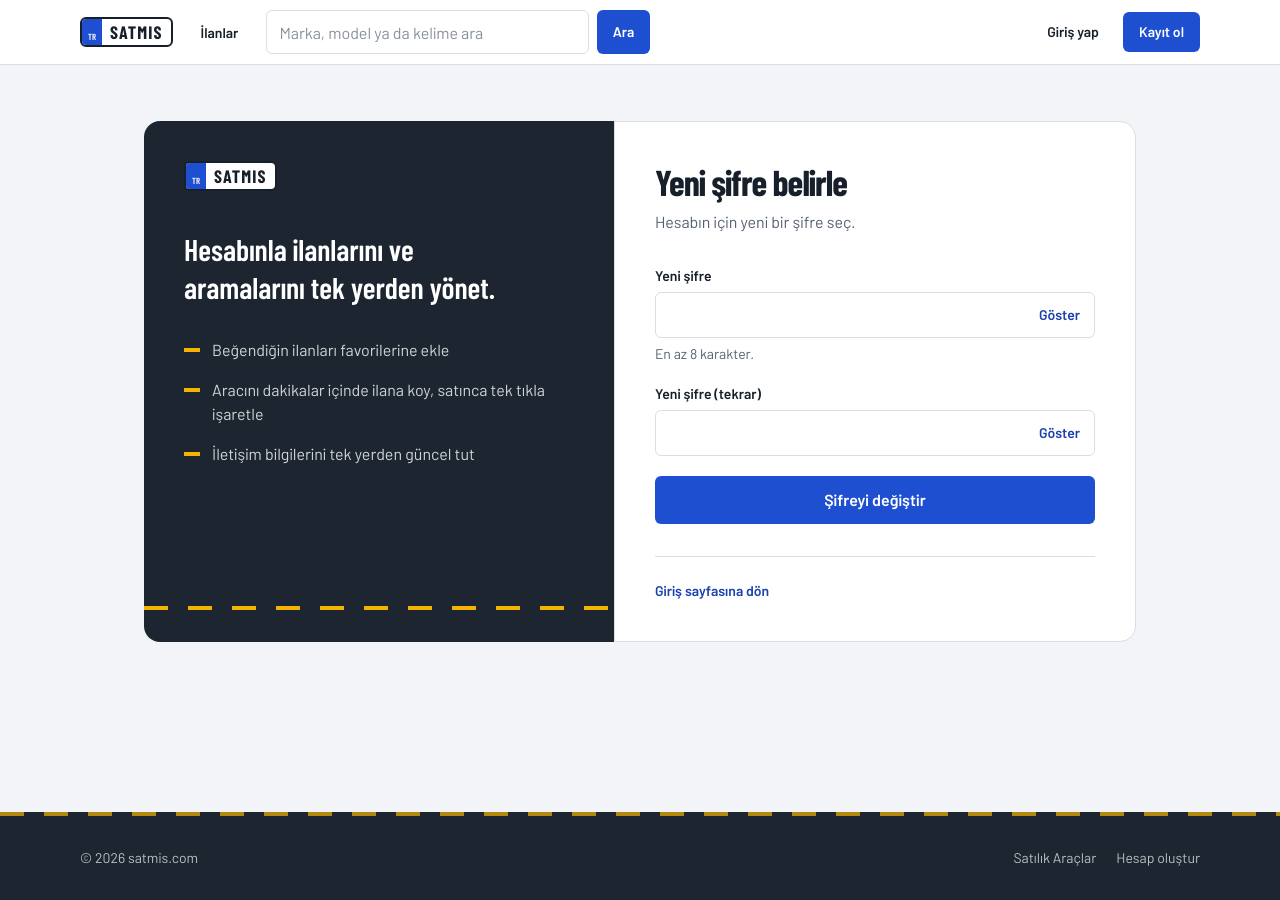
Test: ResetPasswordPage › shortPassword_showsLengthError
The width and height of the screenshot is (1280, 900).
Type "kisa" into the password field labelled "Yeni şifre" at (842, 315), box [656,293,1029,337]
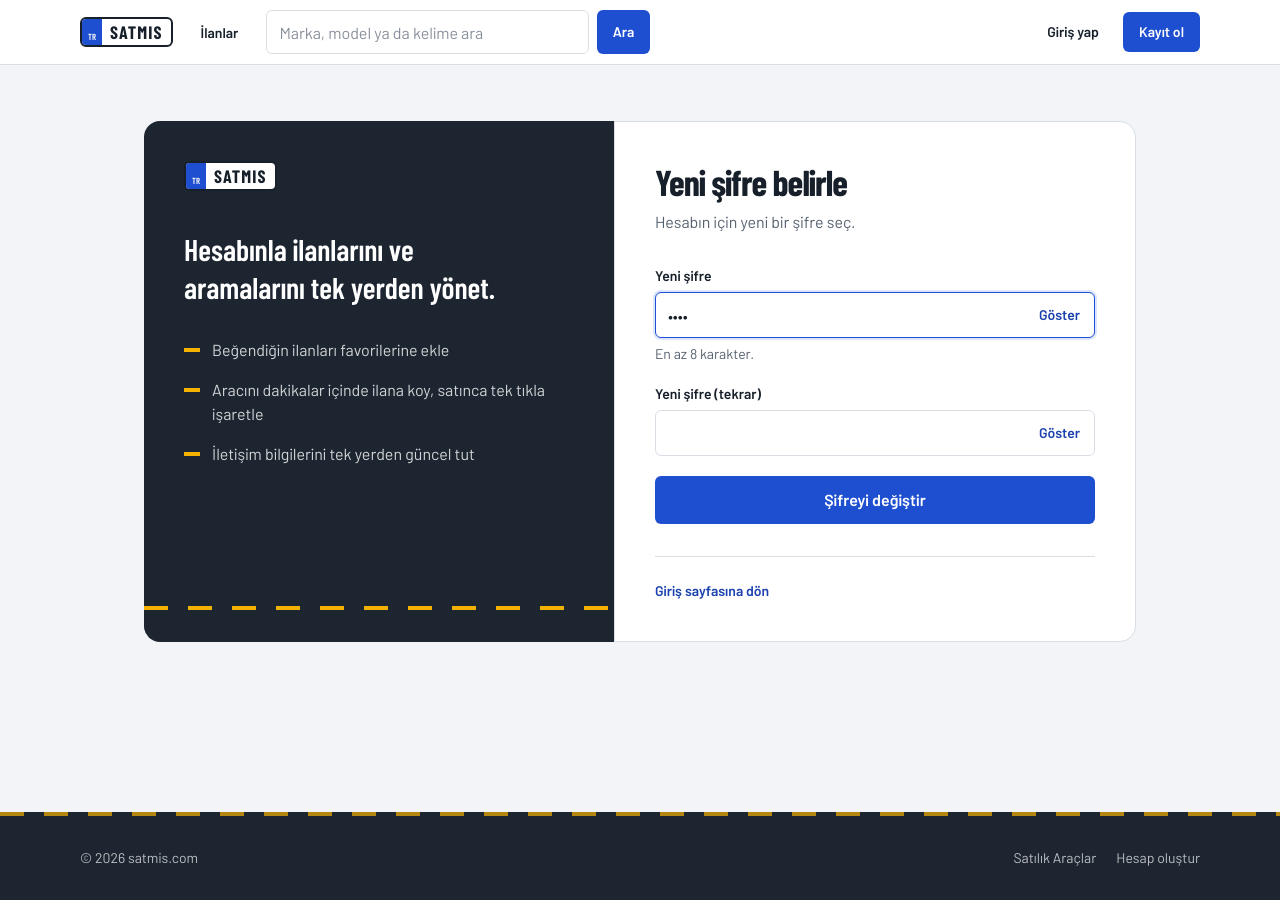
Type "kisa" into the password field labelled "Yeni şifre (tekrar)" at (842, 433), box [656,411,1029,455]
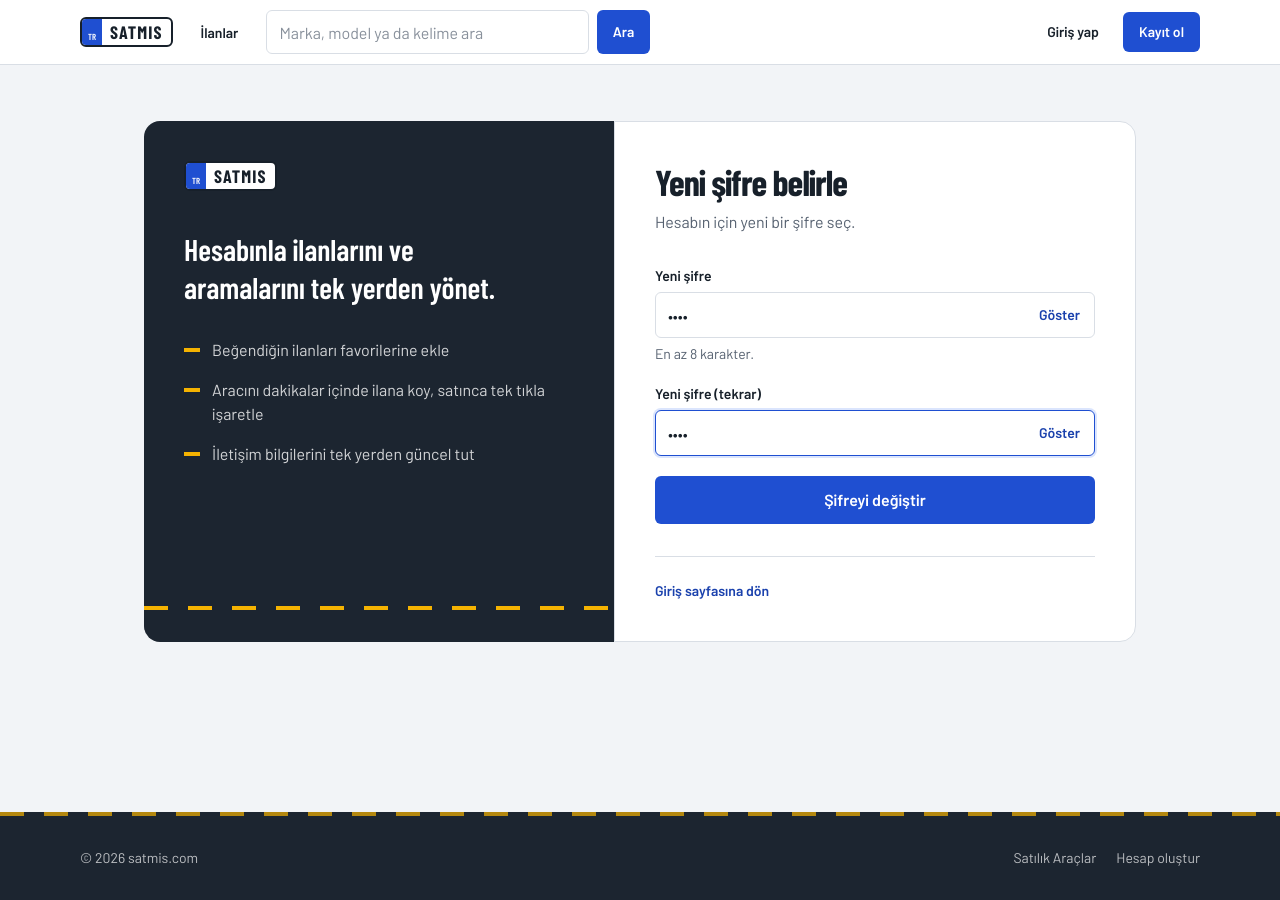
Click the button "Şifreyi değiştir" at (875, 500), box [655,476,1095,524]
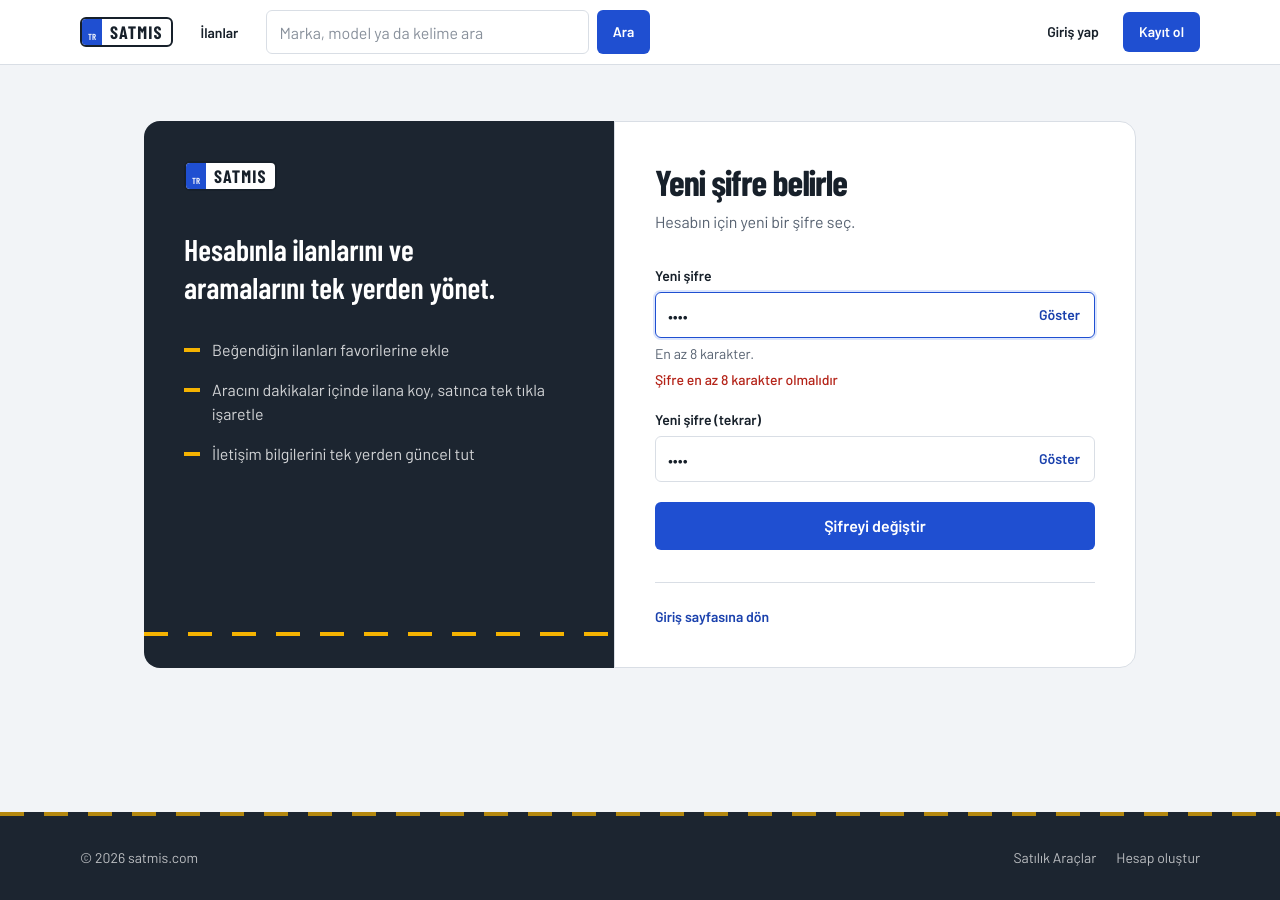
expect the text "Şifre en az 8 karakter olmalıdır" is shown: met, box [655,371,838,388]
